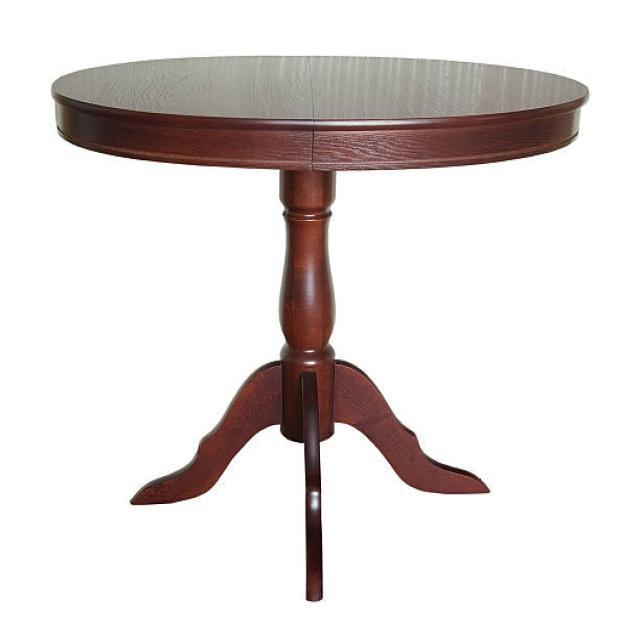table: (50, 54, 590, 602)
